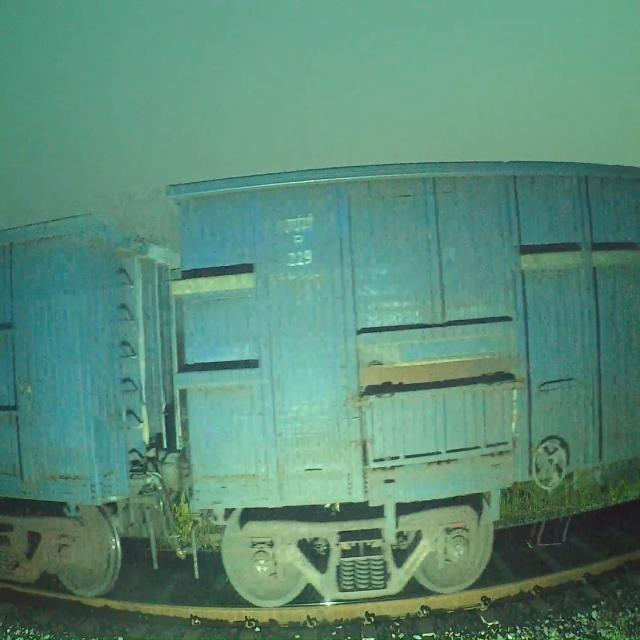WAgon-uic: (162, 153, 640, 615), (0, 206, 211, 602)
